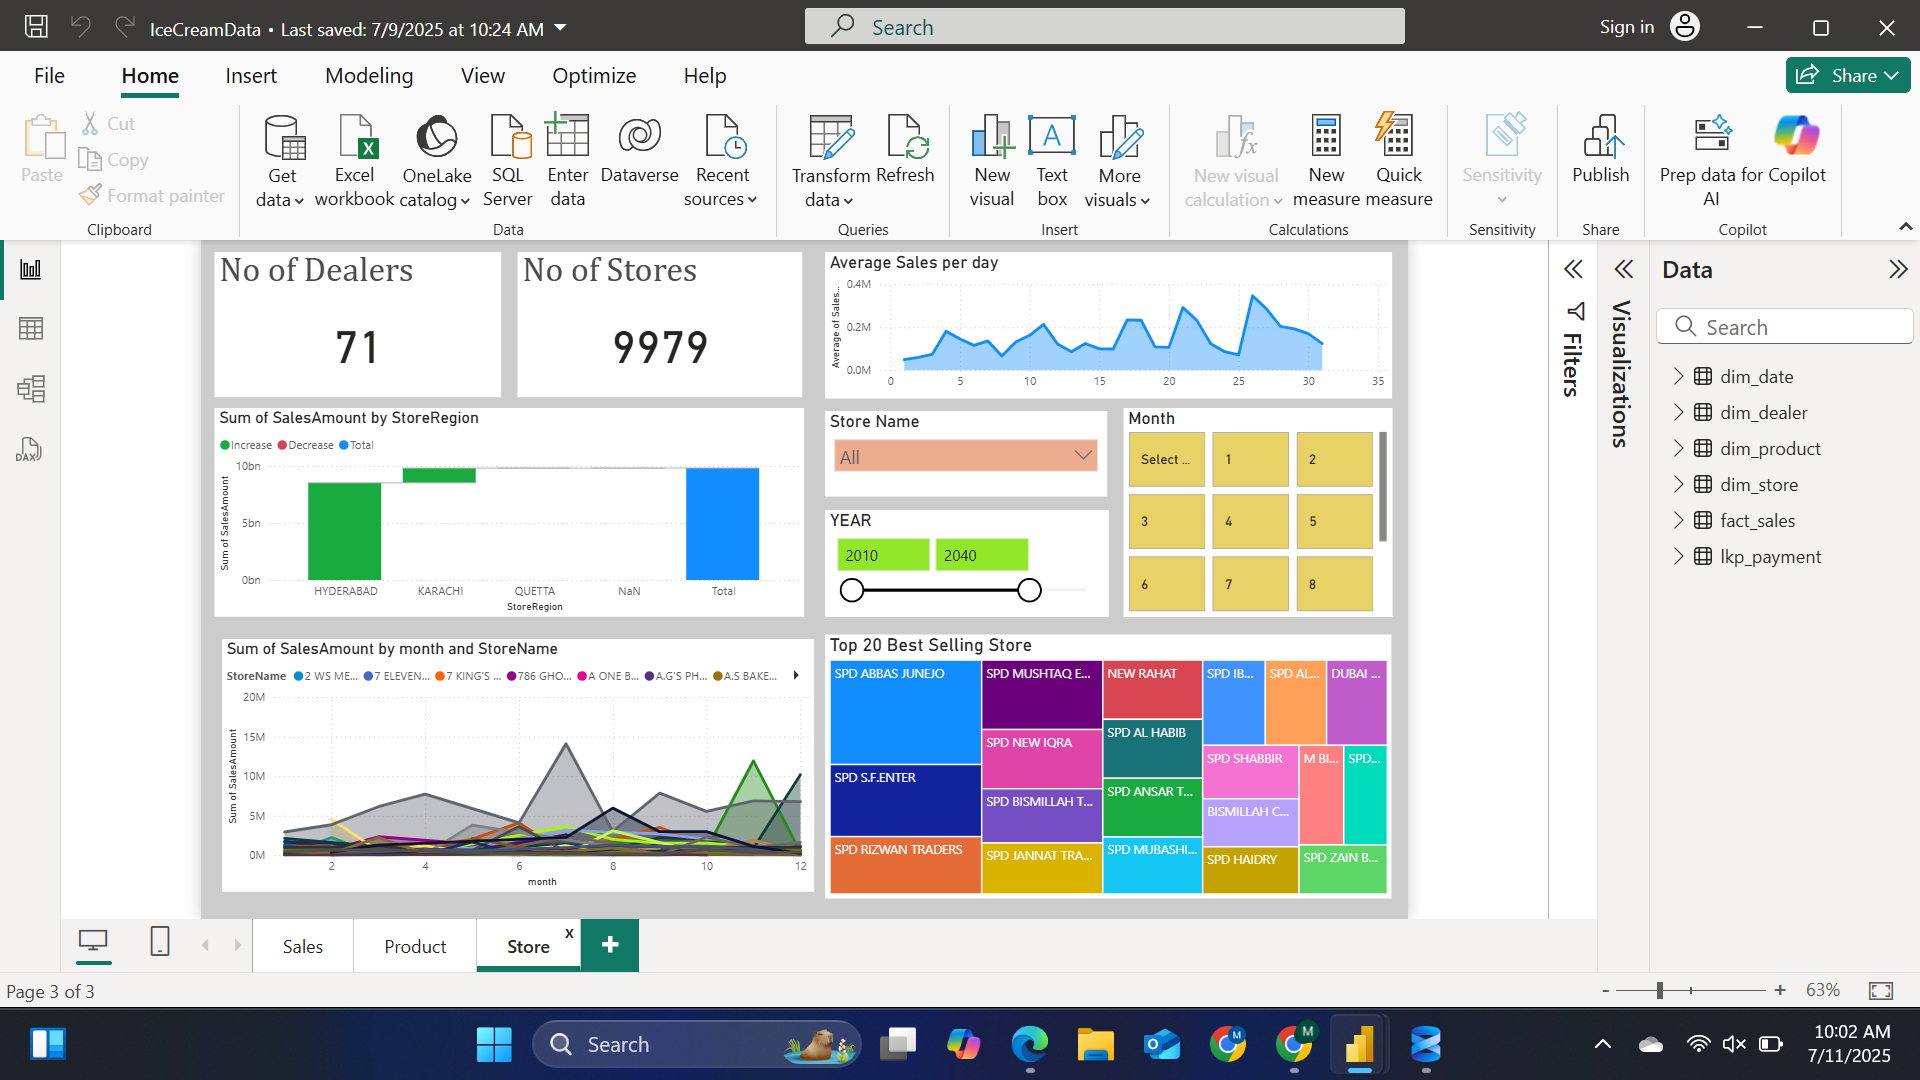

The page's visual inventory and layout, read from the dashboard file:
{"tool":"powerbi","page":{"name":"Store","canvas":[1280,720],"ordinal":2},"visuals":[{"type":"treemap","title":"Top 20 Best Selling Store","fields":{"Values":["Sum(fact_sales.SalesAmount)"],"Group":["dim_store.StoreName"]},"box":[661.4,417.6,600.9,279.7],"z":0},{"type":"card","title":"No of  Dealers","fields":{"Values":["CountNonNull(dim_dealer.DealerID)"]},"box":[14.3,12.7,303.8,154.3],"z":1000},{"type":"areaChart","fields":{"Y":["Sum(fact_sales.SalesAmount)"],"Category":["dim_date.month"],"Series":["dim_store.StoreName"]},"box":[22,423,628,268],"z":2000},{"type":"slicer","title":"YEAR","fields":{"Values":["dim_date.year"]},"box":[661.7,286.3,300.6,112.9],"z":3000},{"type":"card","title":"No of  Stores","fields":{"Values":["dim_store.NoOfStores"]},"box":[335.6,12.7,302.2,154.3],"z":4000},{"type":"slicer","title":"Store Name","fields":{"Values":["dim_store.StoreName"]},"box":[661.7,181.3,299,90.7],"z":5000},{"type":"areaChart","title":"Average Sales per day","fields":{"Y":["Avg(fact_sales.SalesAmount)"],"Category":["dim_date.day"]},"box":[661,13,601,155],"z":6000},{"type":"advancedSlicerVisual","title":"Month","fields":{"Values":["dim_date.month"]},"box":[978.2,178.1,284.7,221.1],"z":7000},{"type":"waterfallChart","fields":{"Y":["Sum(fact_sales.SalesAmount)"],"Category":["dim_store.StoreRegion"]},"box":[14.3,178.1,625.1,221.1],"z":8000}]}

Visuals, with their boxes on the page's 1280x720 design canvas (x1, y1, x2, y2). These are canvas units, not pixel positions in the 1920x1080 screenshot, which may show the page scaled, cropped or inside an application window:
"Top 20 Best Selling Store" treemap: bbox=[661, 418, 1262, 697]
"No of  Dealers" card: bbox=[14, 13, 318, 167]
areaChart - Sum(fact_sales.SalesAmount) x dim_date.month: bbox=[22, 423, 650, 691]
"YEAR" slicer: bbox=[662, 286, 962, 399]
"No of  Stores" card: bbox=[336, 13, 638, 167]
"Store Name" slicer: bbox=[662, 181, 961, 272]
"Average Sales per day" areaChart: bbox=[661, 13, 1262, 168]
"Month" advancedSlicerVisual: bbox=[978, 178, 1263, 399]
waterfallChart - Sum(fact_sales.SalesAmount) x dim_store.StoreRegion: bbox=[14, 178, 639, 399]
